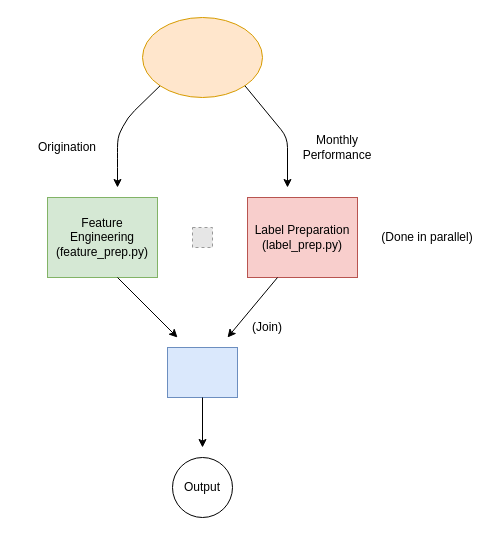
Image size: 494x535. Some labels were removed from this diagram. Grey dashed boxes stand in for pictures. Here are the shapes that lost their labels. From the top down, the centre of each, then its label:
At [202,57]: "Data in S3 bucket".
At [202,372]: "ML Model (model.py)".
